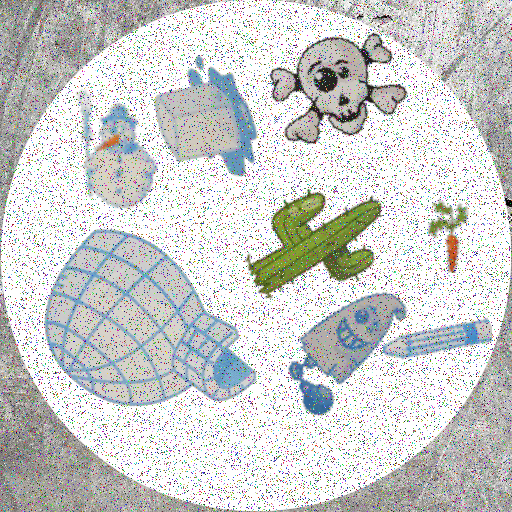cactus_icon: (233, 162, 392, 321)
carrot_icon: (416, 196, 493, 273)
cube_icon: (130, 53, 270, 193)
ghost_icon: (271, 271, 423, 423)
igloo_icon: (39, 213, 273, 447)
pen_icon: (383, 285, 492, 394)
skull_icon: (263, 8, 416, 161)
snowman_icon: (46, 88, 168, 210)
